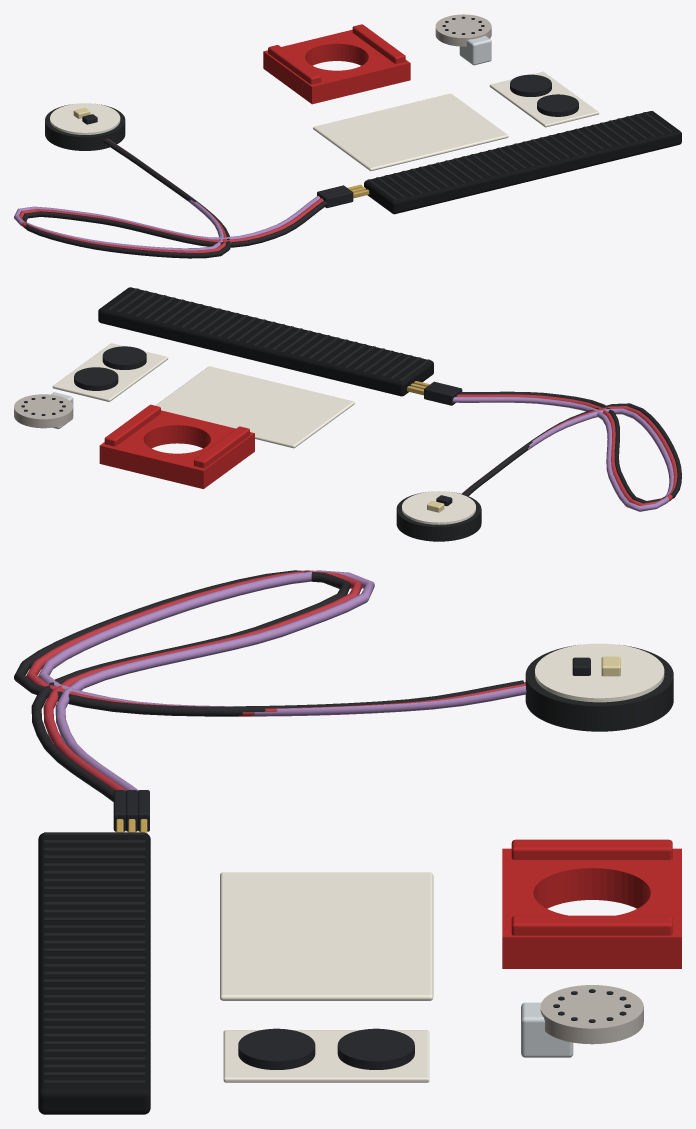
The model's file is sensors-40.glb.
The picture shows the model from 3 angles, top to bottom: view 1: azimuth 30°, elevation 25°; view 2: azimuth 150°, elevation 25°; view 3: azimuth 270°, elevation 25°; orthographic projection. The views are drawn at different scales.
Visible parts, largest first — view 1: strap, sheets, holder, cable, pads, disc, clip, pins; view 2: strap, sheets, holder, cable, pads, disc, clip, pins; view 3: strap, sheets, cable, holder, pads, disc, clip, pins.
Part boxes in pixels (<box>): strap: <box>364,111,681,214</box>; sheets: <box>313,93,508,171</box>; holder: <box>263,24,410,104</box>; cable: <box>14,138,327,258</box>; pads: <box>489,71,599,127</box>; disc: <box>45,103,125,150</box>; clip: <box>435,14,491,65</box>; pins: <box>317,184,369,207</box>; strap: <box>98,287,433,396</box>; sheets: <box>155,366,354,448</box>; holder: <box>99,404,254,488</box>; cable: <box>452,391,681,511</box>; pads: <box>52,343,168,401</box>; disc: <box>396,491,481,541</box>; clip: <box>14,392,73,429</box>; pins: <box>407,381,462,405</box>; strap: <box>38,832,150,1114</box>; sheets: <box>220,872,433,1000</box>; cable: <box>14,570,526,801</box>; holder: <box>502,839,681,968</box>; pads: <box>223,1028,429,1082</box>; disc: <box>525,643,673,731</box>; clip: <box>521,985,643,1057</box>; pins: <box>113,790,149,833</box>.
Bounding box in the file's own units: 3.34 × 0.174 × 1.79.
